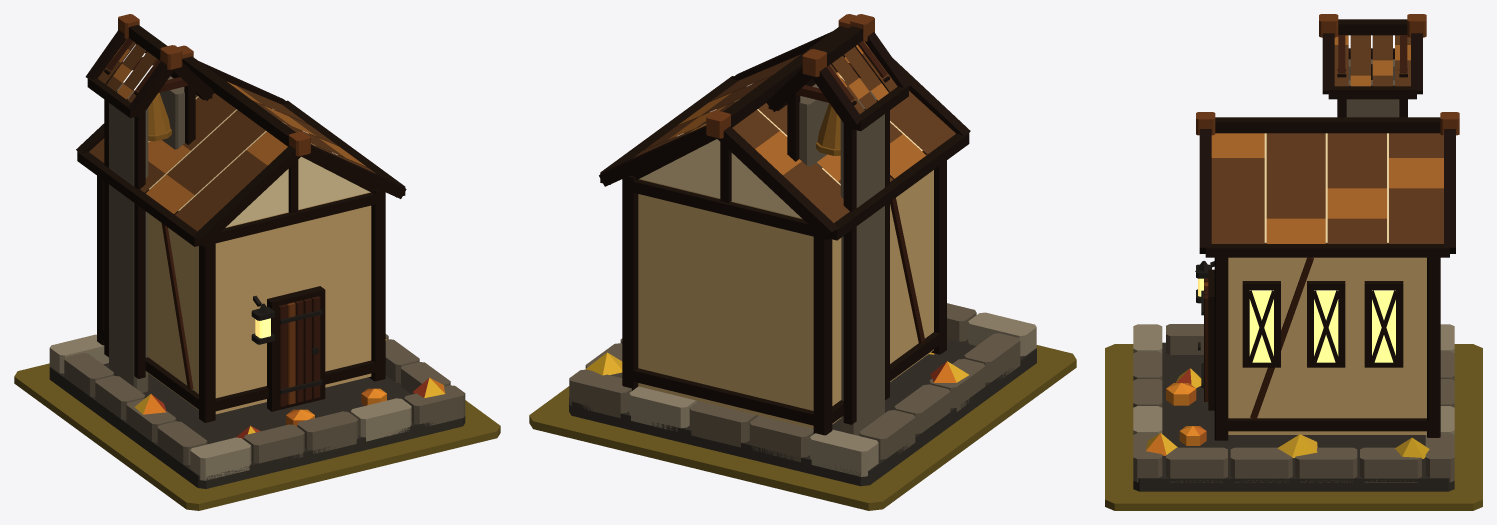
File: chapel_t4.glb
The picture shows the model from 3 angles, left to right: view 1: azimuth 30°, elevation 25°; view 2: azimuth 150°, elevation 25°; view 3: azimuth 270°, elevation 25°; orthographic projection. The views are drawn at different scales.
Parts seen in each view (by area): view 1: MMR | chapel | T04 Architecture.001, MMR | chapel | Tier 04 Ground.001, MMR | chapel | T04 Autumn Dressing.001; view 2: MMR | chapel | T04 Architecture.001, MMR | chapel | Tier 04 Ground.001, MMR | chapel | T04 Autumn Dressing.001; view 3: MMR | chapel | T04 Architecture.001, MMR | chapel | Tier 04 Ground.001, MMR | chapel | T04 Autumn Dressing.001.
Boxes of the visible parts, left/top/right/bottom form: MMR | chapel | T04 Architecture.001: left=49, top=14, right=465, bottom=488; MMR | chapel | Tier 04 Ground.001: left=14, top=363, right=500, bottom=510; MMR | chapel | T04 Autumn Dressing.001: left=135, top=339, right=445, bottom=439; MMR | chapel | T04 Architecture.001: left=569, top=14, right=1036, bottom=486; MMR | chapel | Tier 04 Ground.001: left=529, top=345, right=1076, bottom=510; MMR | chapel | T04 Autumn Dressing.001: left=586, top=352, right=968, bottom=382; MMR | chapel | T04 Architecture.001: left=1133, top=14, right=1459, bottom=491; MMR | chapel | Tier 04 Ground.001: left=1105, top=344, right=1482, bottom=510; MMR | chapel | T04 Autumn Dressing.001: left=1146, top=368, right=1429, bottom=458.
Bounding box in the file's own units: 2.35 × 2.6 × 2.35.
Materials: 2 (1 with a texture image).
